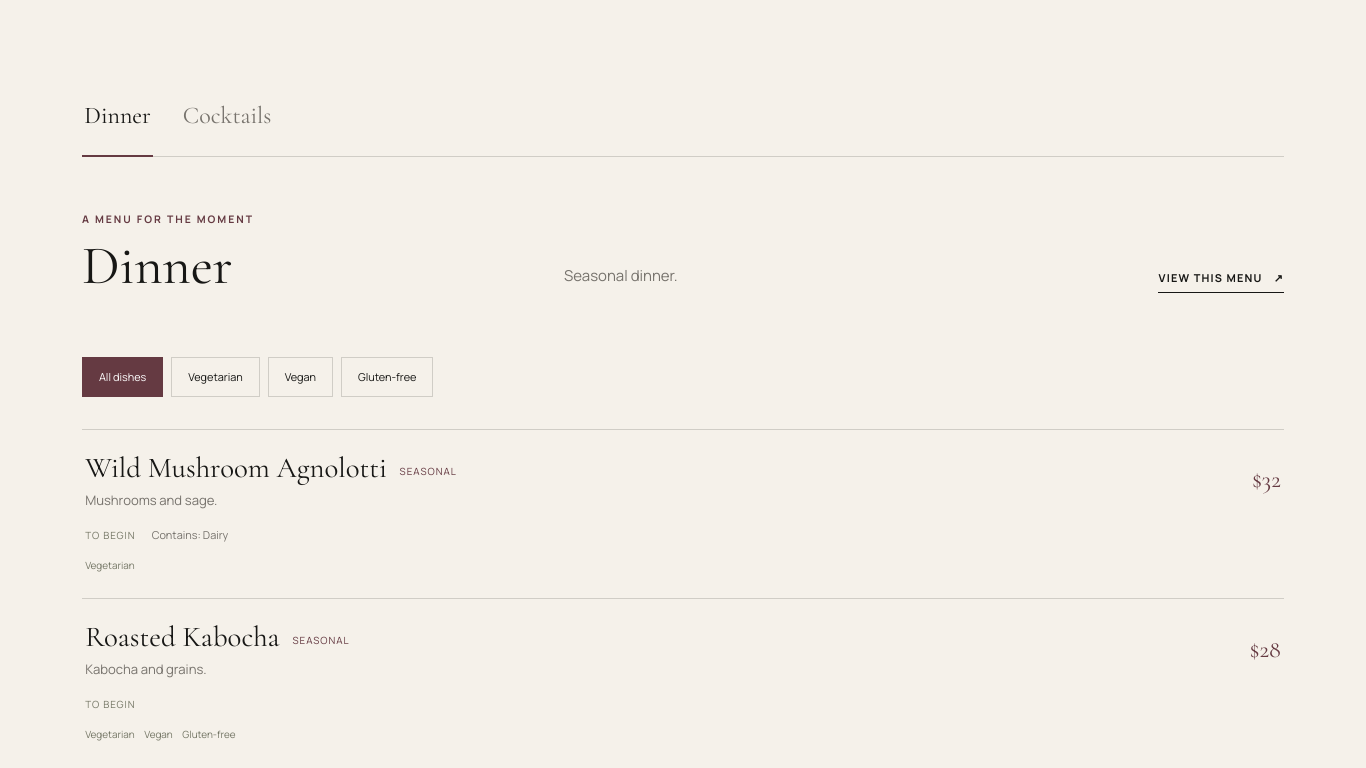
Test: MenuExplorer › switches menu types and filters dishes by dietary preference
The image size is (1366, 768).
Expected: the heading "Wild Mushroom Agnolotti" is shown, [85, 454, 387, 482]
Click the button "Vegan".
click(300, 377)  # box [268, 357, 333, 397]
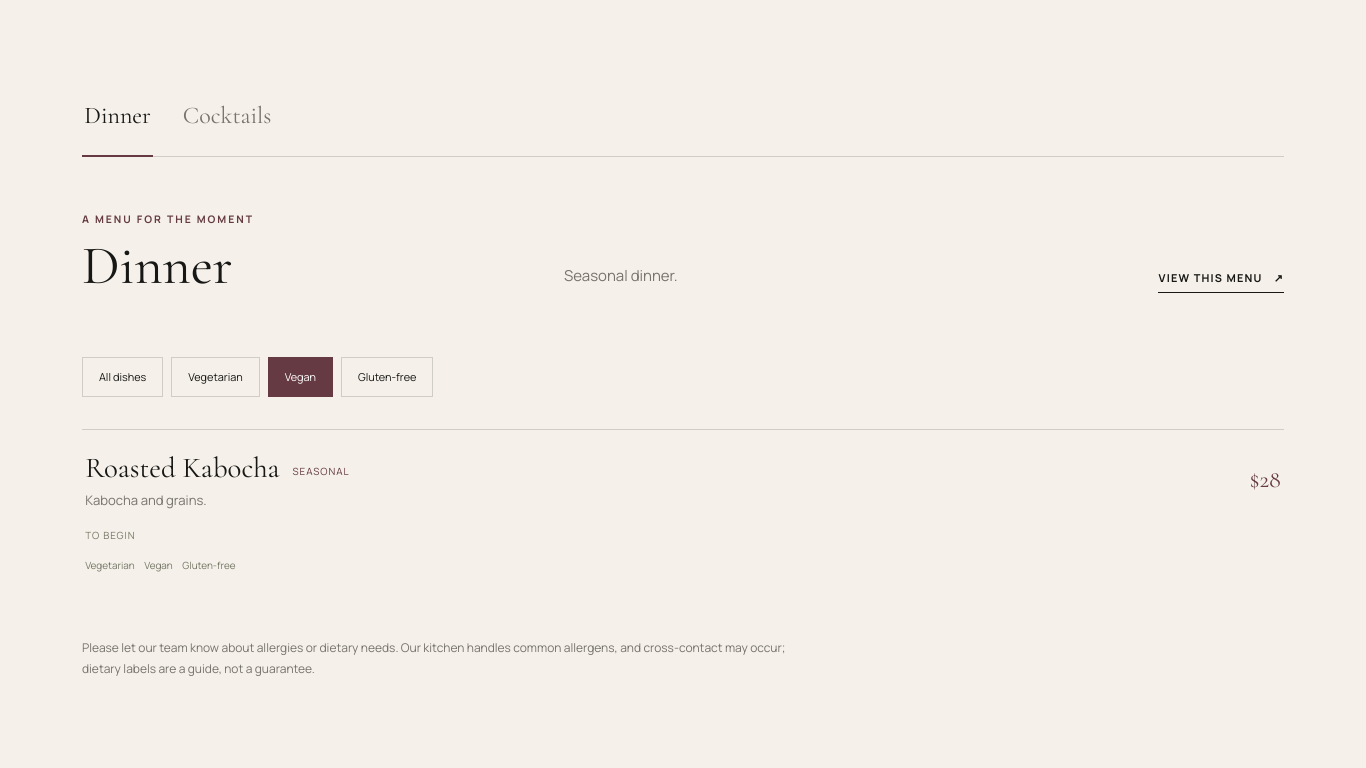
Expected: the heading "Roasted Kabocha" is shown, [85, 454, 280, 482]
Result: the heading "Wild Mushroom Agnolotti" is gone
Click the tab "Cocktails".
click(227, 118)  # box [180, 80, 274, 156]
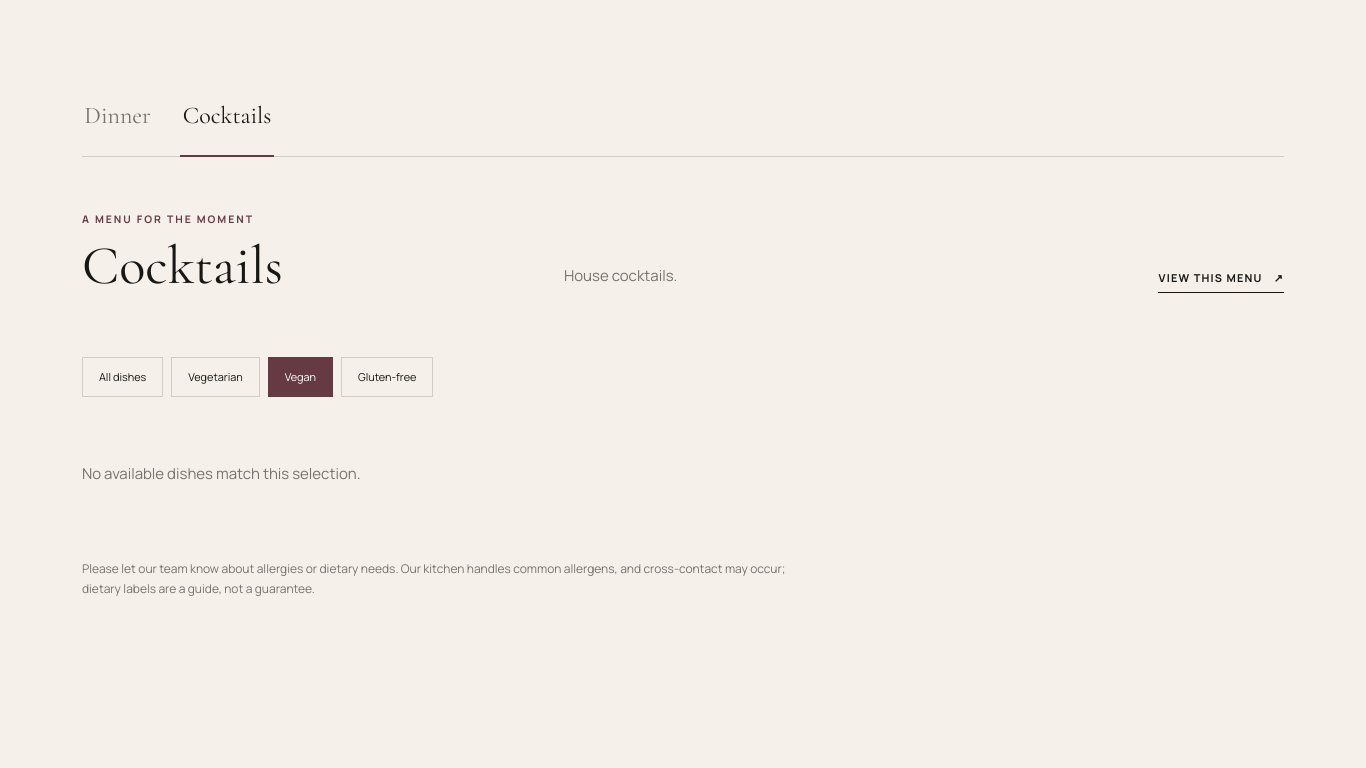
Result: the heading "Cocktails" is shown at [82, 233, 283, 299]
Result: the text "No available dishes match this selection." is shown at [82, 463, 361, 484]
